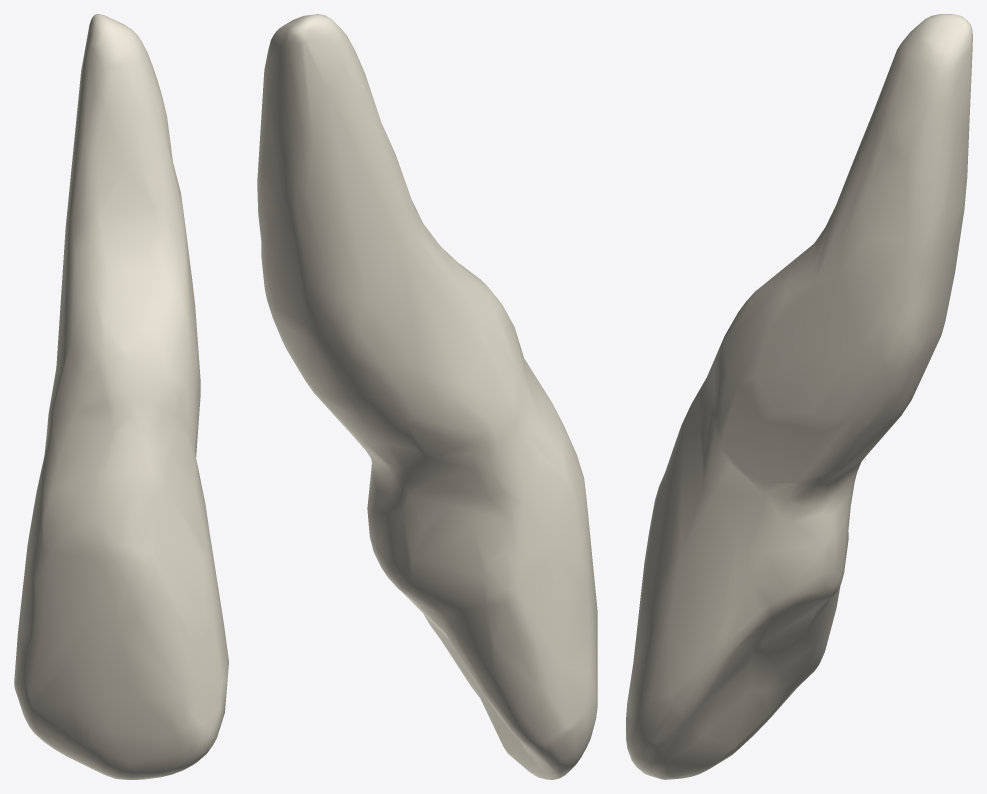
3 views of the same model, side by side, from view 1: azimuth 30°, elevation 25°; view 2: azimuth 150°, elevation 25°; view 3: azimuth 270°, elevation 25° (orthographic). The views are drawn at different scales.
Parts seen in each view (by area): view 1: ZA_aba0ffb23126246f; view 2: ZA_aba0ffb23126246f; view 3: ZA_aba0ffb23126246f.
Boxes of the visible parts, x1,y1,x2,y2 form: ZA_aba0ffb23126246f: (14, 14, 228, 779); ZA_aba0ffb23126246f: (257, 14, 597, 779); ZA_aba0ffb23126246f: (626, 14, 972, 779).
Size of the model in its own units: 0.00937 by 0.0282 by 0.011.
